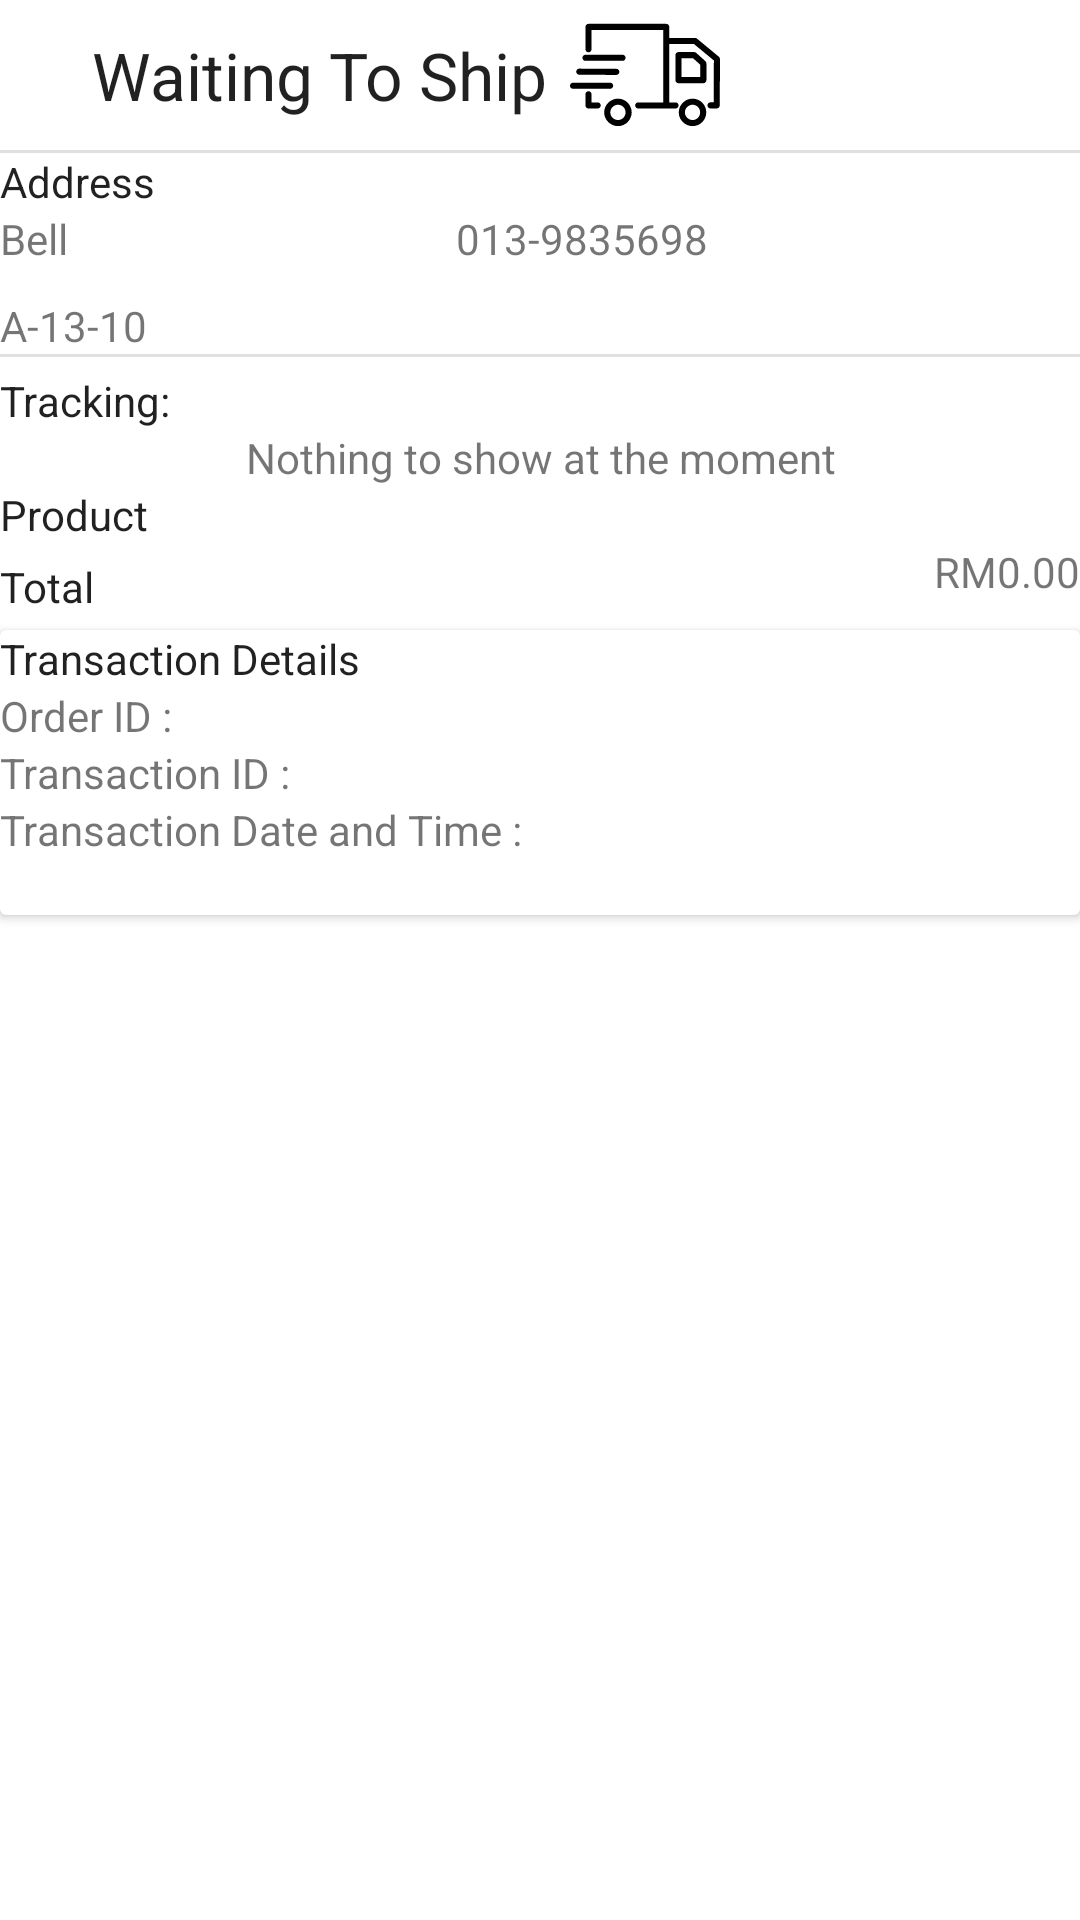

Named icons in this screenshot (1080x1920) and their bounding boxes, (x1, y1, x2, y2):
delivery truck: (570, 23, 720, 126)
